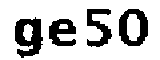0: (118, 6, 150, 50)
5: (85, 4, 114, 49)
e: (47, 17, 78, 47)
g: (10, 15, 44, 60)
